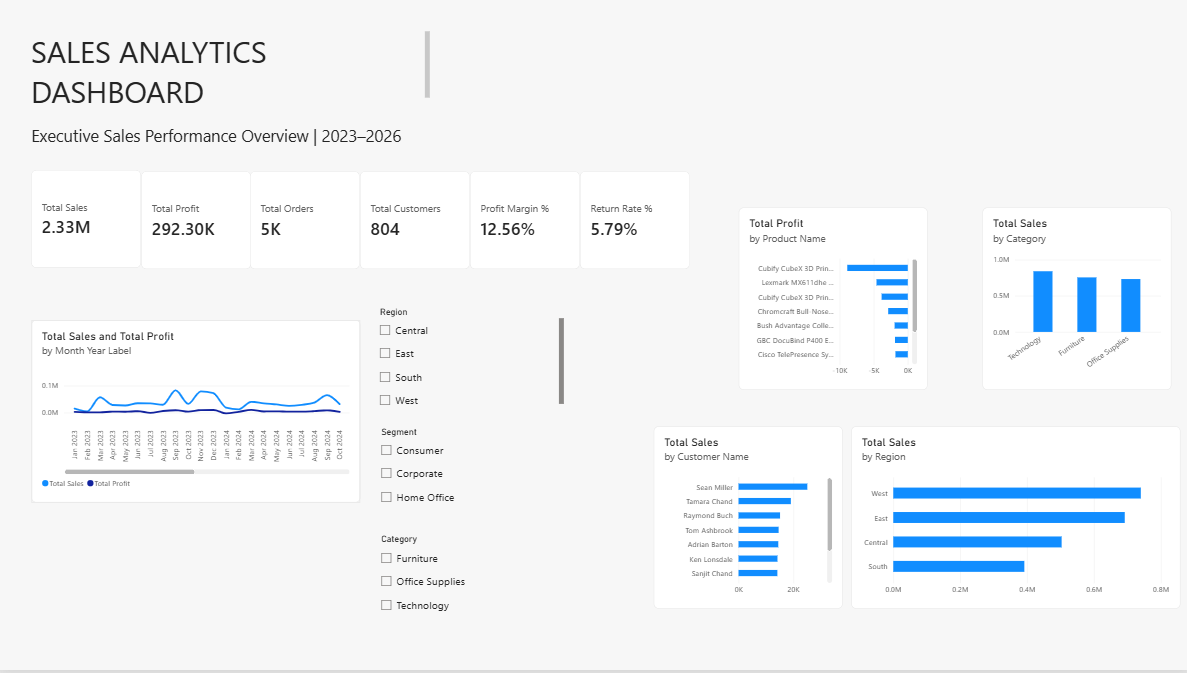

What the dashboard file says about the page in this screenshot:
{"tool":"powerbi","page":{"name":"Executive Dashboard","canvas":[1920,1080],"ordinal":0},"visuals":[{"type":"cardVisual","fields":{"Data":["Orders.Total Sales"]},"box":[50.4,274.3,177,158.5],"z":0},{"type":"cardVisual","fields":{"Data":["Orders.Total Profit"]},"box":[227.9,276.4,177,158],"z":1000},{"type":"cardVisual","fields":{"Data":["Orders.Total Orders"]},"box":[403.4,276.4,177,158],"z":2000},{"type":"cardVisual","fields":{"Data":["Orders.Total Customers"]},"box":[581,276.4,177,158],"z":3000},{"type":"cardVisual","fields":{"Data":["Orders.Profit Margin %"]},"box":[758.5,276.4,177,158],"z":4000},{"type":"cardVisual","fields":{"Data":["Orders.Return Rate %"]},"box":[936,276.4,177,158],"z":5000},{"type":"lineChart","fields":{"Category":["Orders.Month Year Label"],"Y":["Orders.Total Sales","Orders.Total Profit"]},"box":[50.4,516.4,531,294.3],"z":6000},{"type":"clusteredBarChart","fields":{"Category":["Orders.Region"],"Y":["Orders.Total Sales"]},"box":[1373.7,687.9,531,294],"z":7000},{"type":"clusteredColumnChart","fields":{"Category":["Orders.Category"],"Y":["Orders.Total Sales"]},"box":[1585.5,334.9,305,294],"z":8000},{"type":"clusteredBarChart","fields":{"Category":["Orders.Customer Name"],"Y":["Orders.Total Sales"]},"box":[1055,687.9,305,294],"z":9000},{"type":"clusteredBarChart","fields":{"Category":["Orders.Product Name"],"Y":["Orders.Total Profit"]},"box":[1192.2,334.9,305,294],"z":10000},{"type":"slicer","fields":{"Values":["Orders.Region"]},"box":[605.2,494.2,304.6,169.4],"z":11000},{"type":"slicer","fields":{"Values":["Orders.Category"]},"box":[607.2,861.4,304.6,145.2],"z":12000},{"type":"slicer","fields":{"Values":["Orders.Segment"]},"box":[607.2,687.9,304.6,147.3],"z":13000},{"type":"textbox","box":[50.4,50.4,643.5,133.1],"z":14000},{"type":"textbox","box":[50.4,199.7,861.4,133.1],"z":15000}]}

Visuals, with their boxes in screenshot pixels (x1, y1, x2, y2), scaled from the page's 1920x1080 canvas onto the 1187x673 screenshot:
cardVisual - Orders.Total Sales: {"x1": 31, "y1": 171, "x2": 141, "y2": 270}
cardVisual - Orders.Total Profit: {"x1": 141, "y1": 172, "x2": 250, "y2": 271}
cardVisual - Orders.Total Orders: {"x1": 249, "y1": 172, "x2": 359, "y2": 271}
cardVisual - Orders.Total Customers: {"x1": 359, "y1": 172, "x2": 469, "y2": 271}
cardVisual - Orders.Profit Margin %: {"x1": 469, "y1": 172, "x2": 578, "y2": 271}
cardVisual - Orders.Return Rate %: {"x1": 579, "y1": 172, "x2": 688, "y2": 271}
lineChart - Orders.Month Year Label x Orders.Total Sales: {"x1": 31, "y1": 322, "x2": 359, "y2": 505}
clusteredBarChart - Orders.Region x Orders.Total Sales: {"x1": 849, "y1": 429, "x2": 1178, "y2": 612}
clusteredColumnChart - Orders.Category x Orders.Total Sales: {"x1": 980, "y1": 209, "x2": 1169, "y2": 392}
clusteredBarChart - Orders.Customer Name x Orders.Total Sales: {"x1": 652, "y1": 429, "x2": 841, "y2": 612}
clusteredBarChart - Orders.Product Name x Orders.Total Profit: {"x1": 737, "y1": 209, "x2": 926, "y2": 392}
slicer - Orders.Region: {"x1": 374, "y1": 308, "x2": 562, "y2": 414}
slicer - Orders.Category: {"x1": 375, "y1": 537, "x2": 564, "y2": 627}
slicer - Orders.Segment: {"x1": 375, "y1": 429, "x2": 564, "y2": 520}
textbox: {"x1": 31, "y1": 31, "x2": 429, "y2": 114}
textbox: {"x1": 31, "y1": 124, "x2": 564, "y2": 207}
